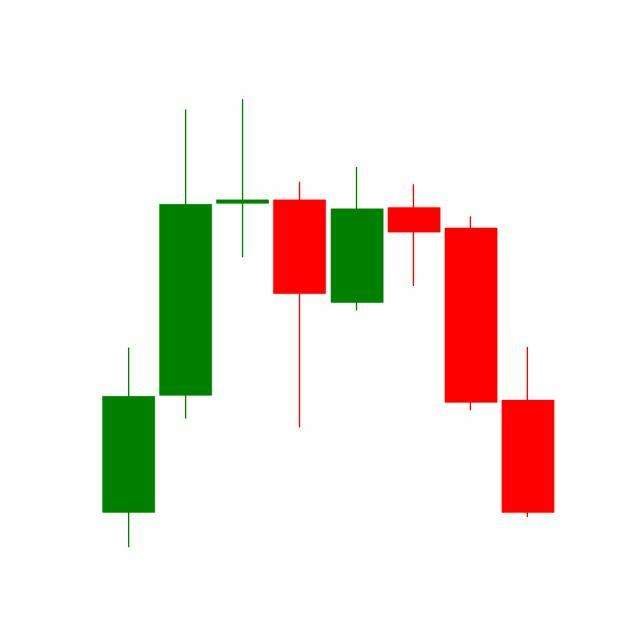Hikkake Pattern: (214, 100, 501, 434)
